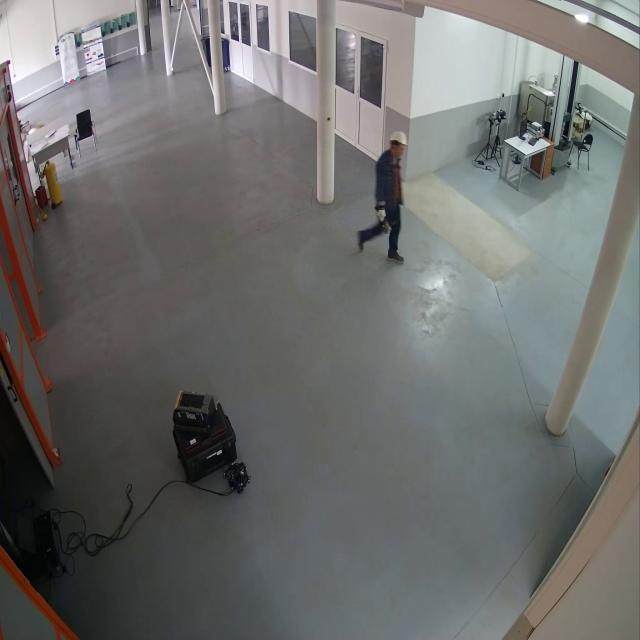Hardhat: (389, 129, 408, 147)
Person: (356, 127, 408, 264)
